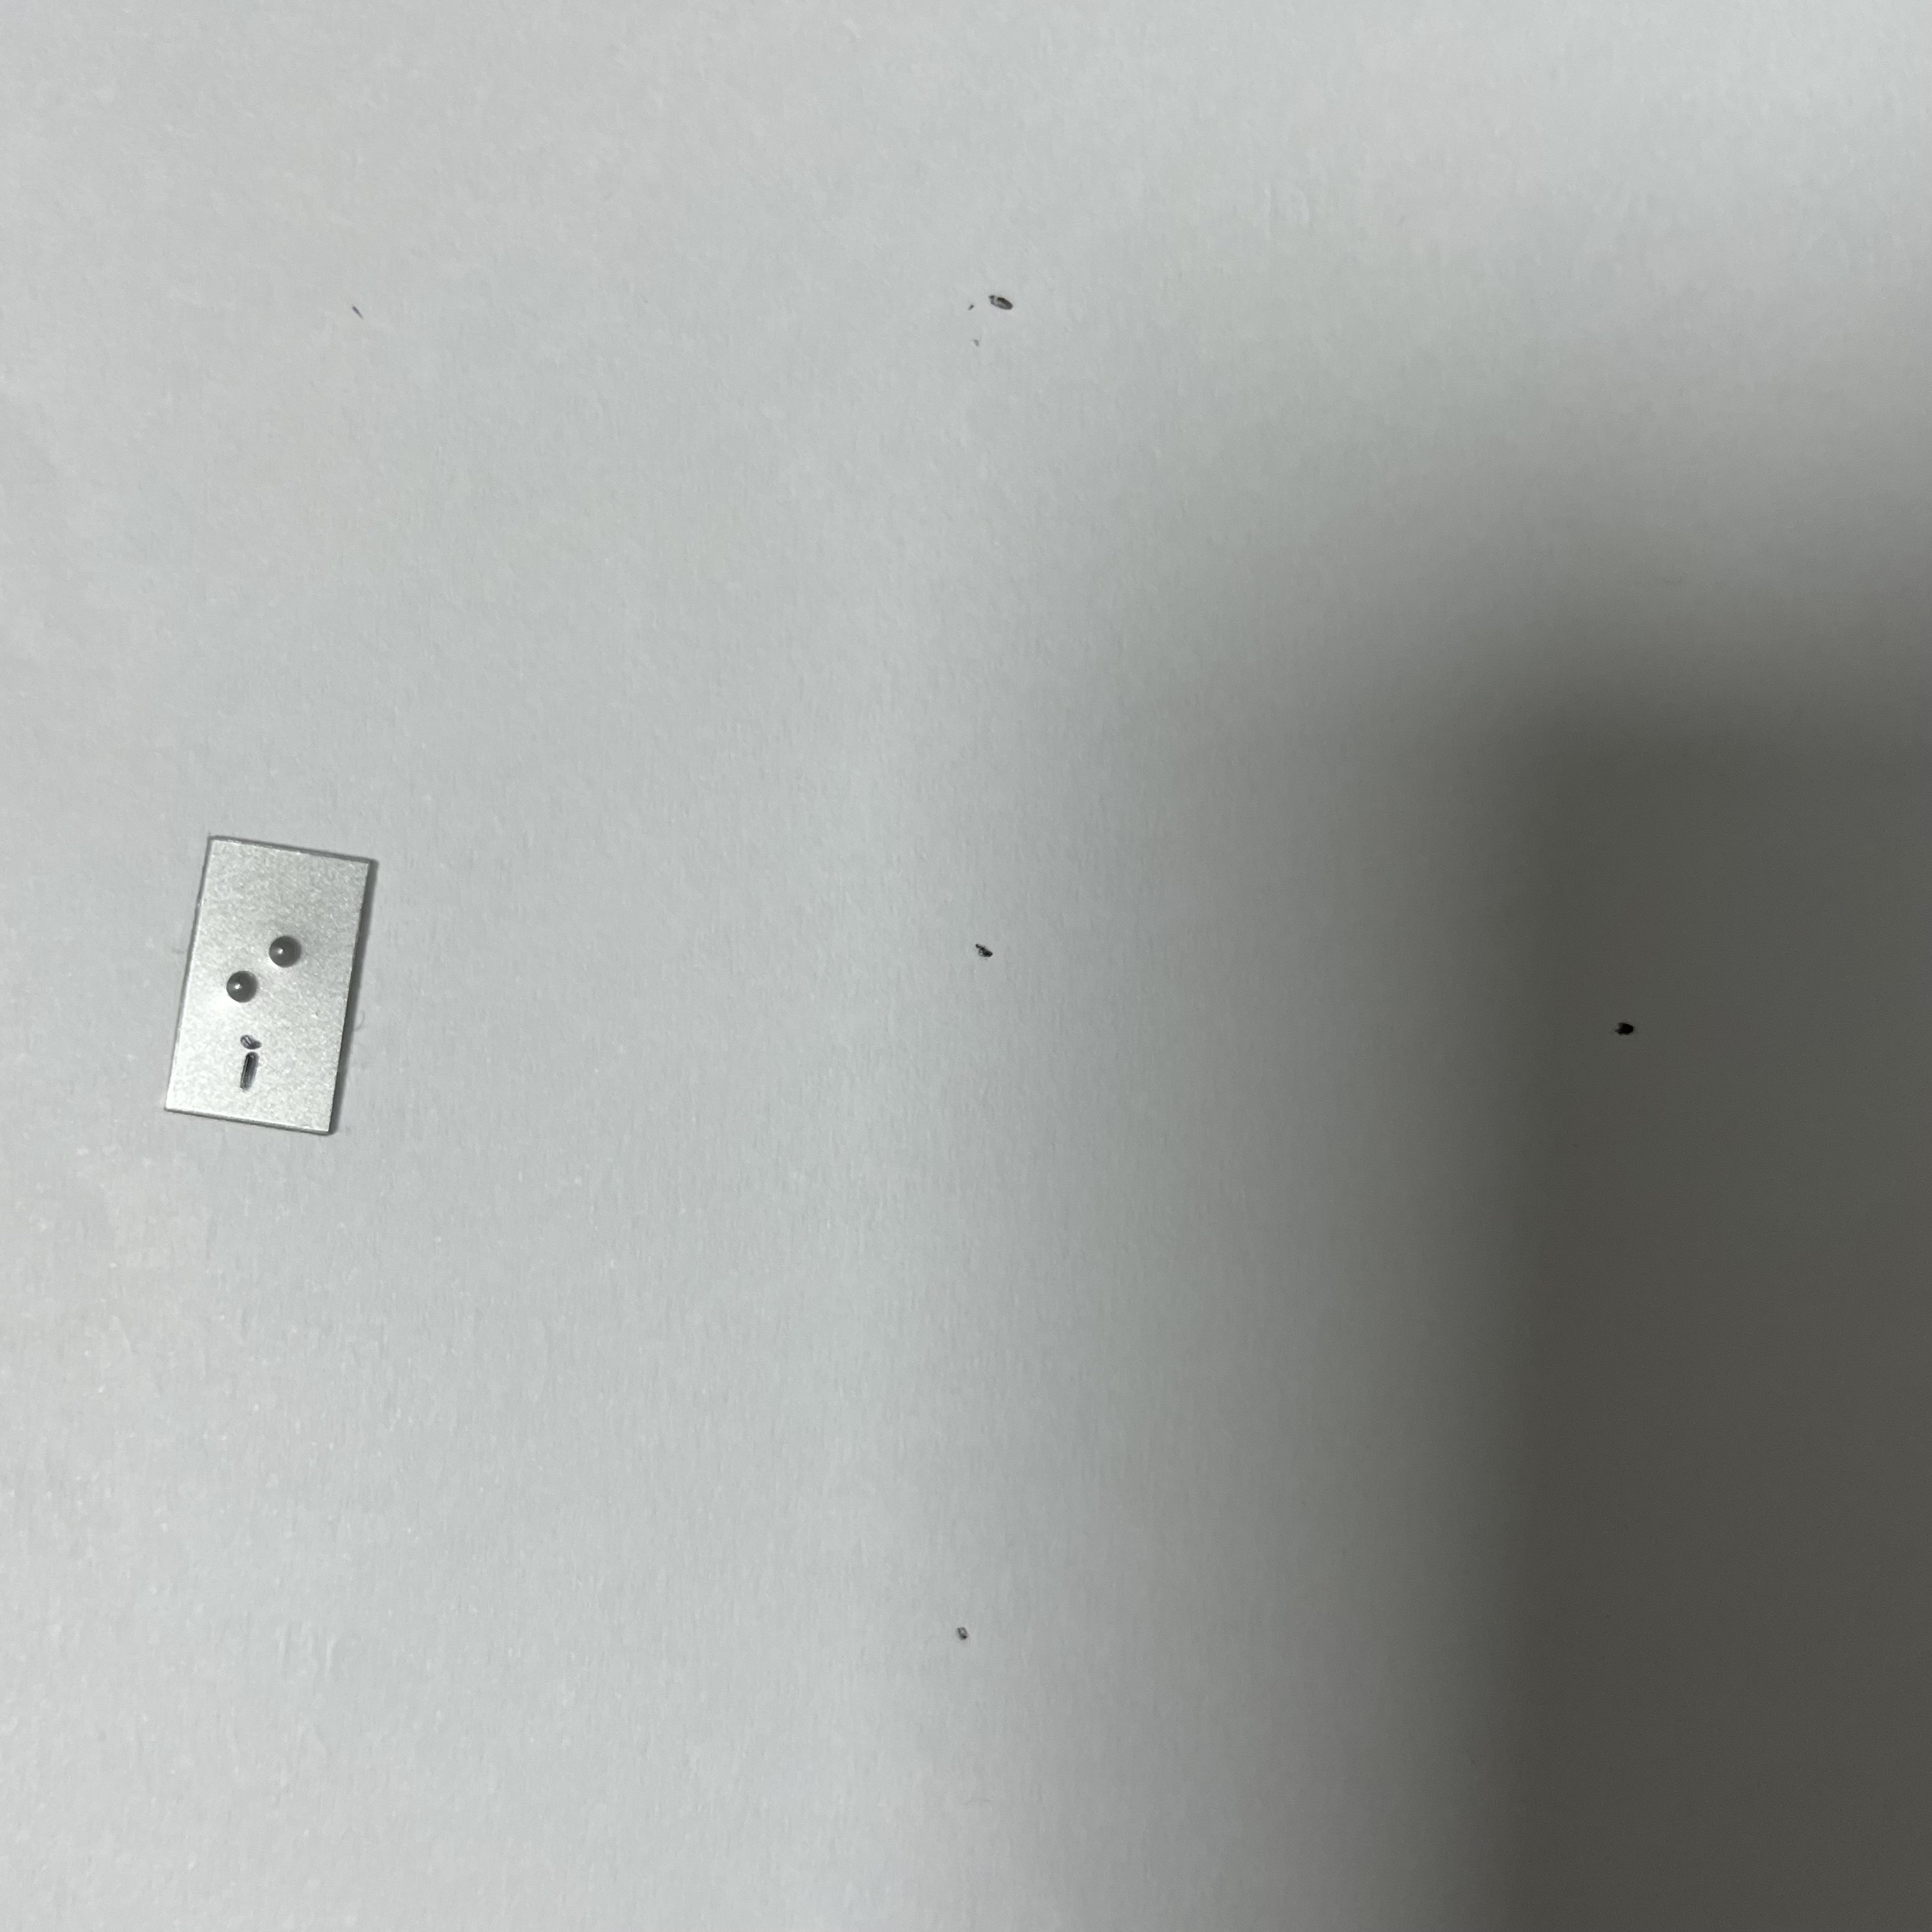i: (218, 911, 315, 1041)
